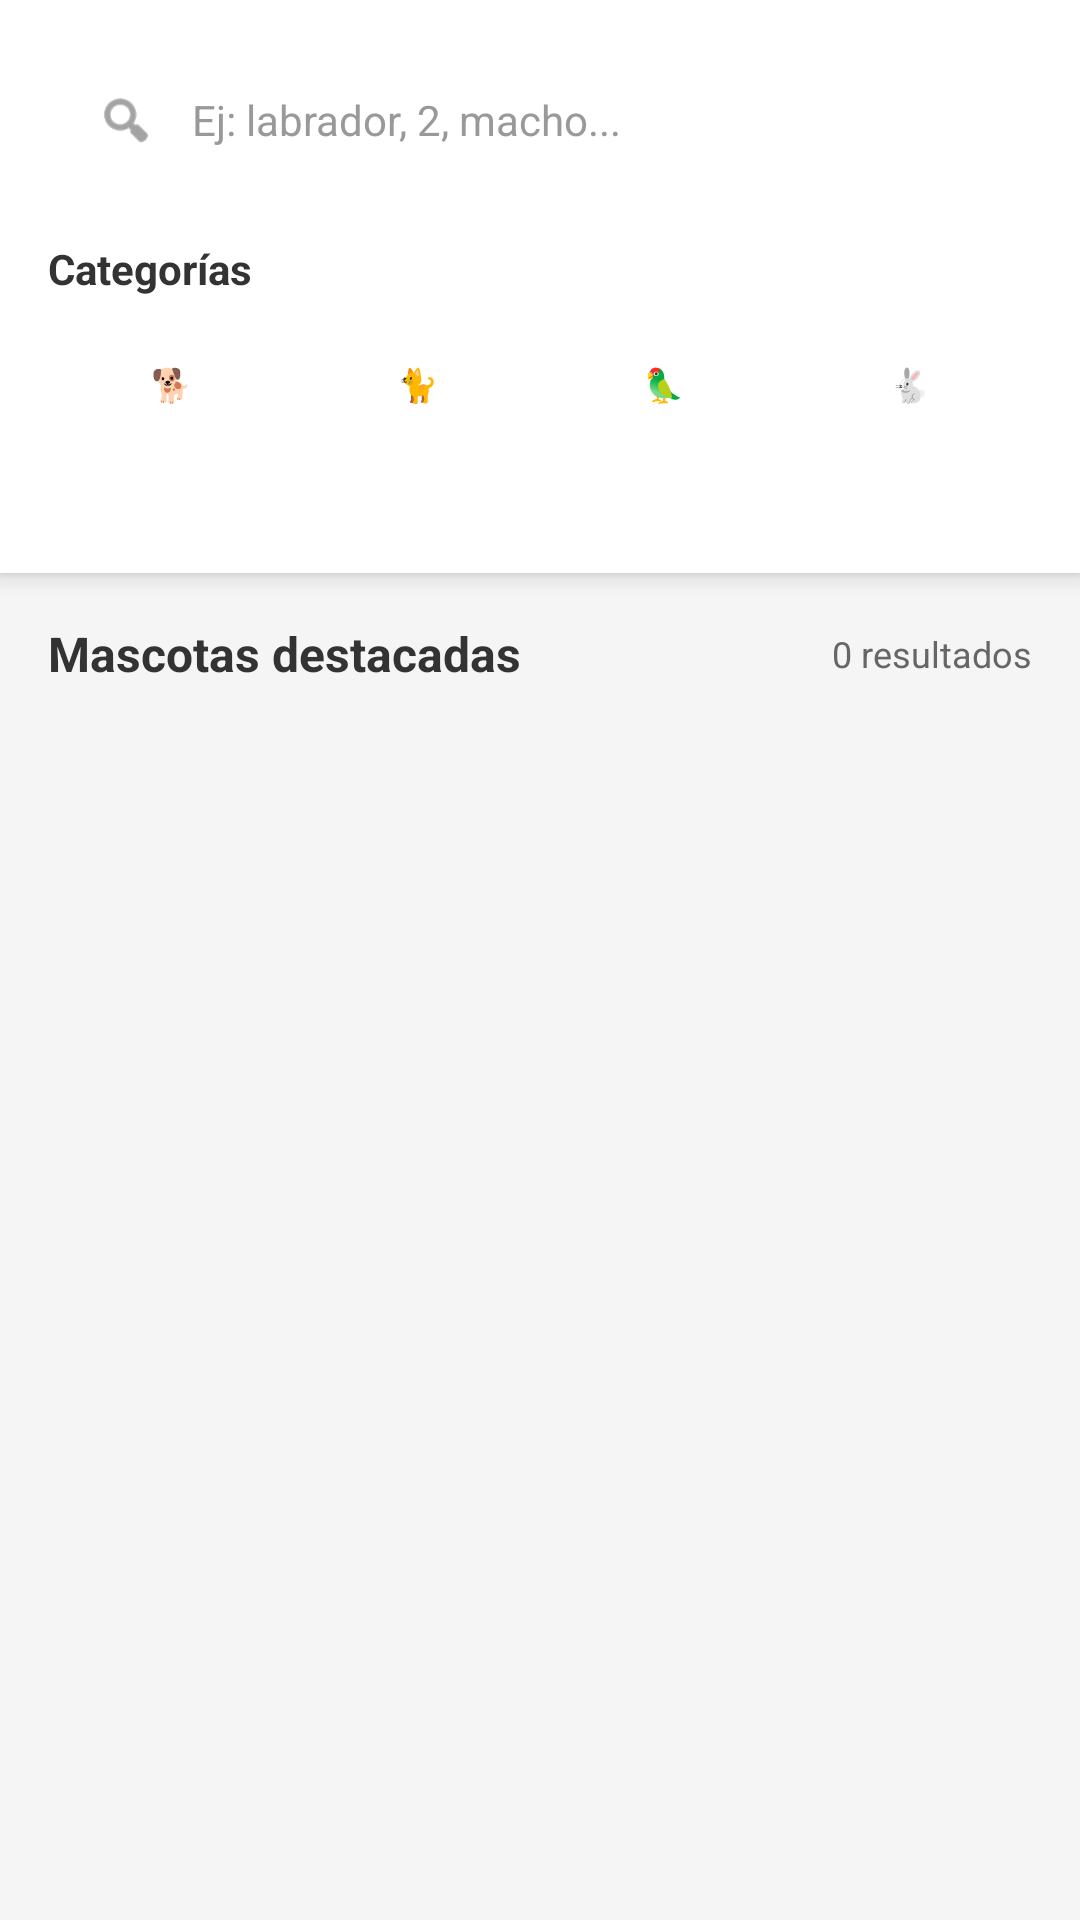

Named icons in this screenshot (1080×1920) and their centers, point (x, y):
Buscar: point (126, 120)
